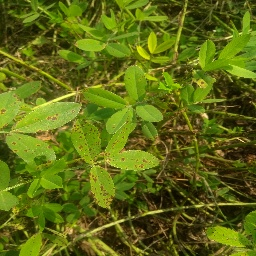GroundNut_Leaf: (13, 101, 83, 133), (4, 135, 57, 168), (86, 165, 115, 209), (203, 225, 251, 247), (104, 152, 162, 170), (220, 33, 253, 61), (124, 65, 147, 102), (80, 88, 124, 106), (106, 108, 134, 135), (21, 232, 41, 256), (139, 105, 164, 123), (74, 39, 106, 52), (108, 42, 132, 58)
